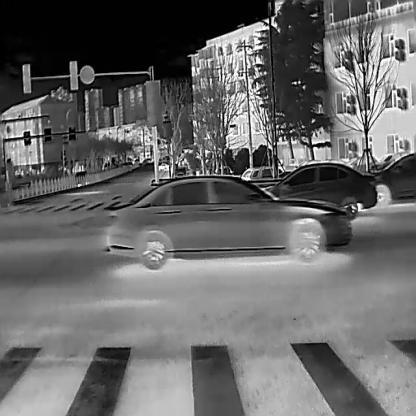car: (104, 174, 351, 268), (261, 160, 376, 217), (370, 153, 416, 207), (241, 166, 282, 179), (367, 154, 395, 172), (343, 156, 378, 169), (74, 171, 88, 187), (157, 162, 168, 169)
